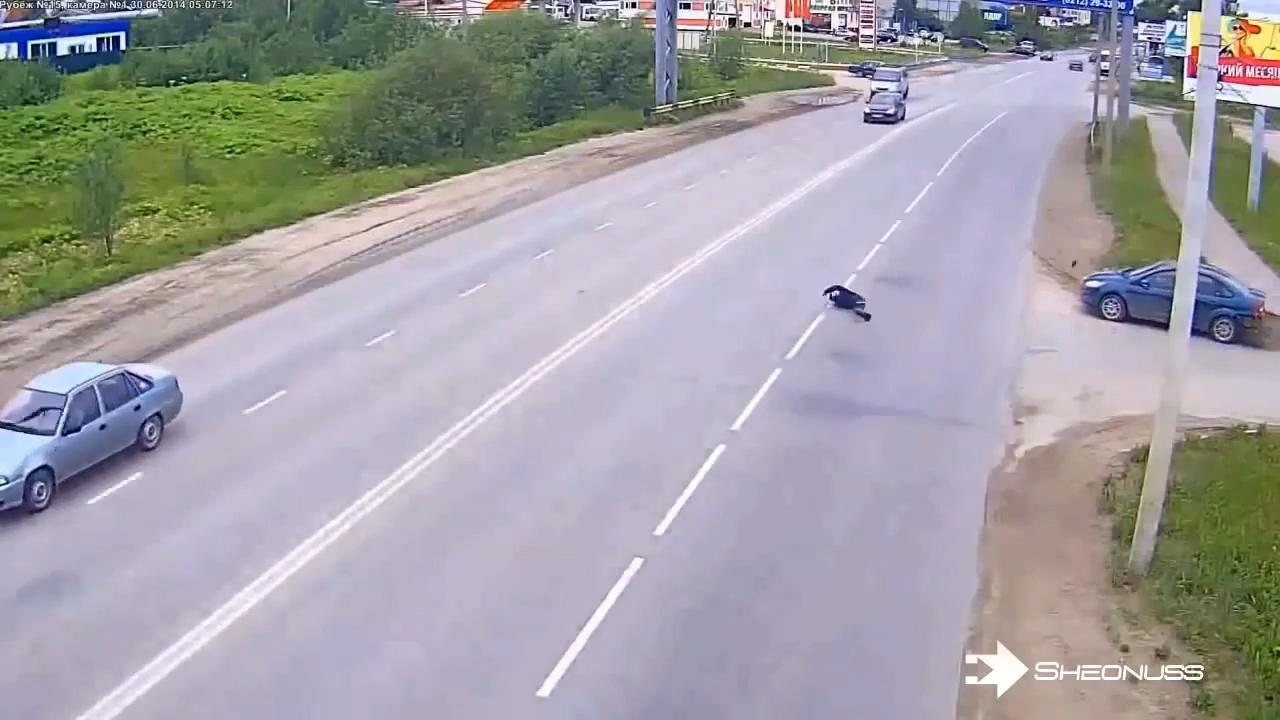accident: (820, 279, 880, 321)
